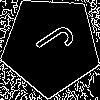J: (26, 21, 77, 67)
